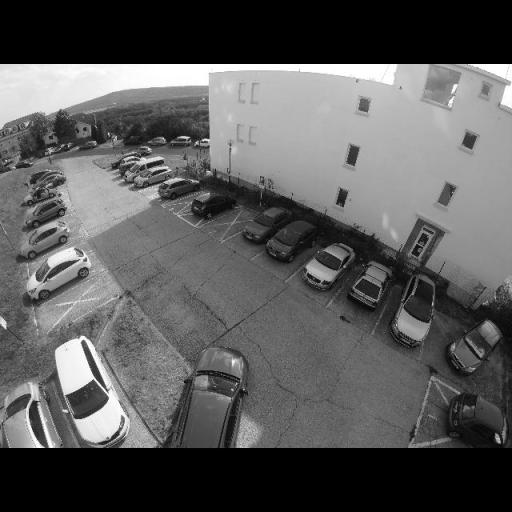busy: (46, 335, 138, 446), (174, 341, 261, 446), (4, 382, 74, 447), (390, 271, 440, 347), (447, 320, 505, 374), (449, 394, 506, 446), (30, 250, 93, 296), (299, 243, 357, 290), (346, 266, 393, 308), (268, 222, 318, 260), (242, 207, 291, 243), (21, 224, 70, 256), (187, 192, 237, 218), (154, 178, 201, 202), (25, 202, 66, 225), (132, 168, 174, 188), (24, 188, 62, 206), (28, 178, 63, 196), (31, 173, 65, 190), (171, 136, 195, 148), (194, 138, 211, 150)
free: (124, 157, 166, 179), (62, 287, 101, 308), (172, 190, 198, 210), (221, 212, 243, 226)
